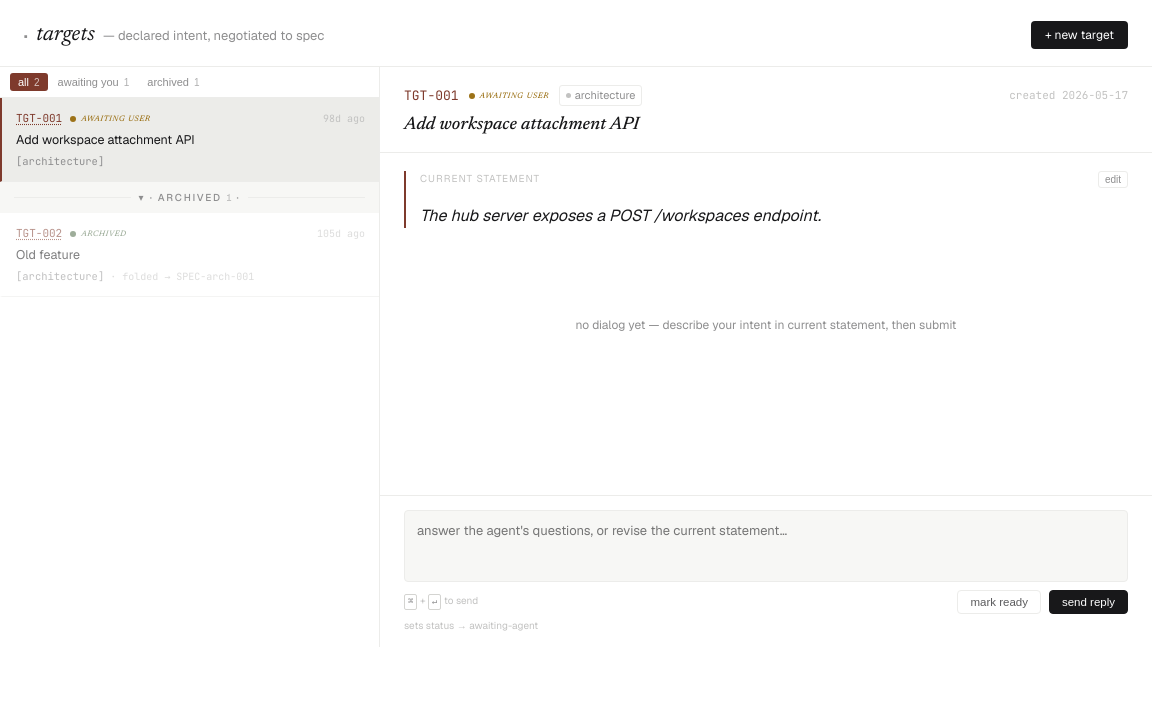
Test: Targets archived divider collapsible (WI-scr-006) › clicking divider hides archived rows
Click the element with class "artifact-list-divider" at (190,198), box [0,182,379,213]
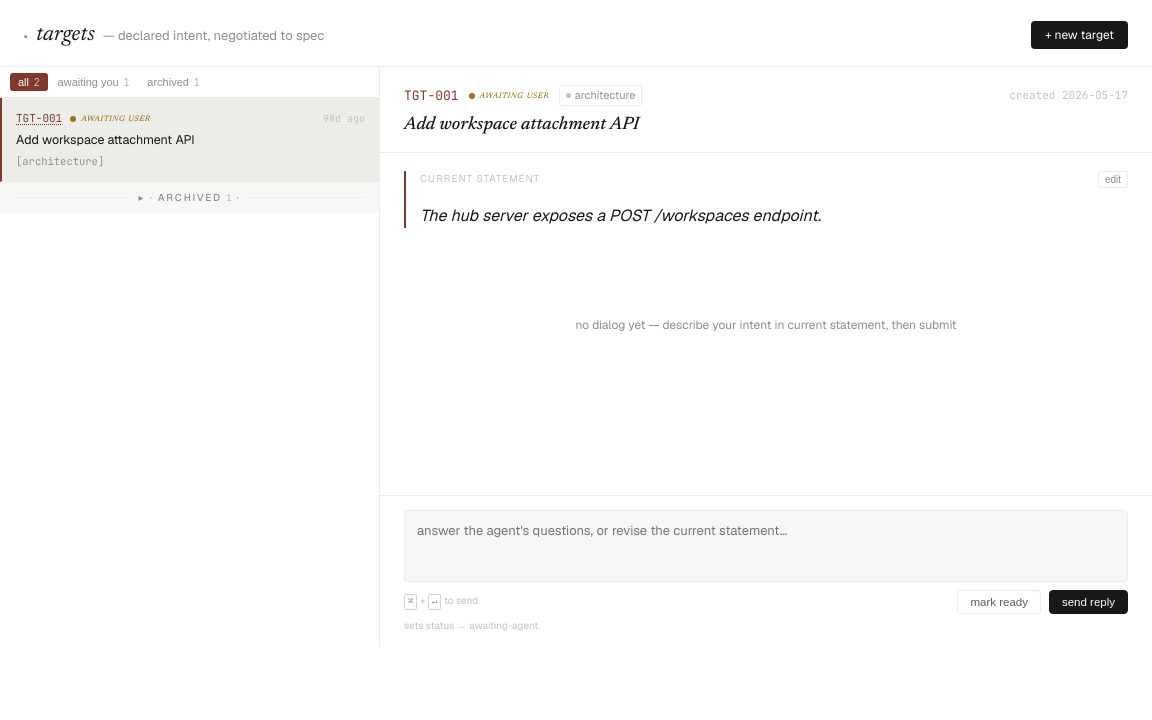
Expected: no elements with class "artifact-list-archived-row" are shown
